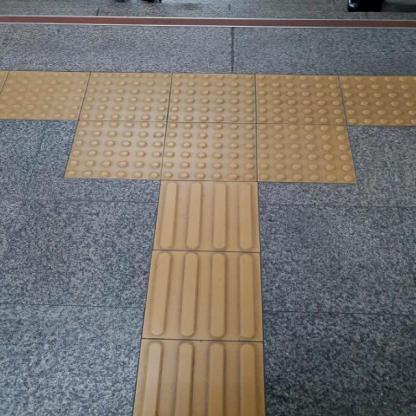podotacti: (132, 182, 264, 415), (66, 119, 358, 184), (0, 75, 415, 118)
